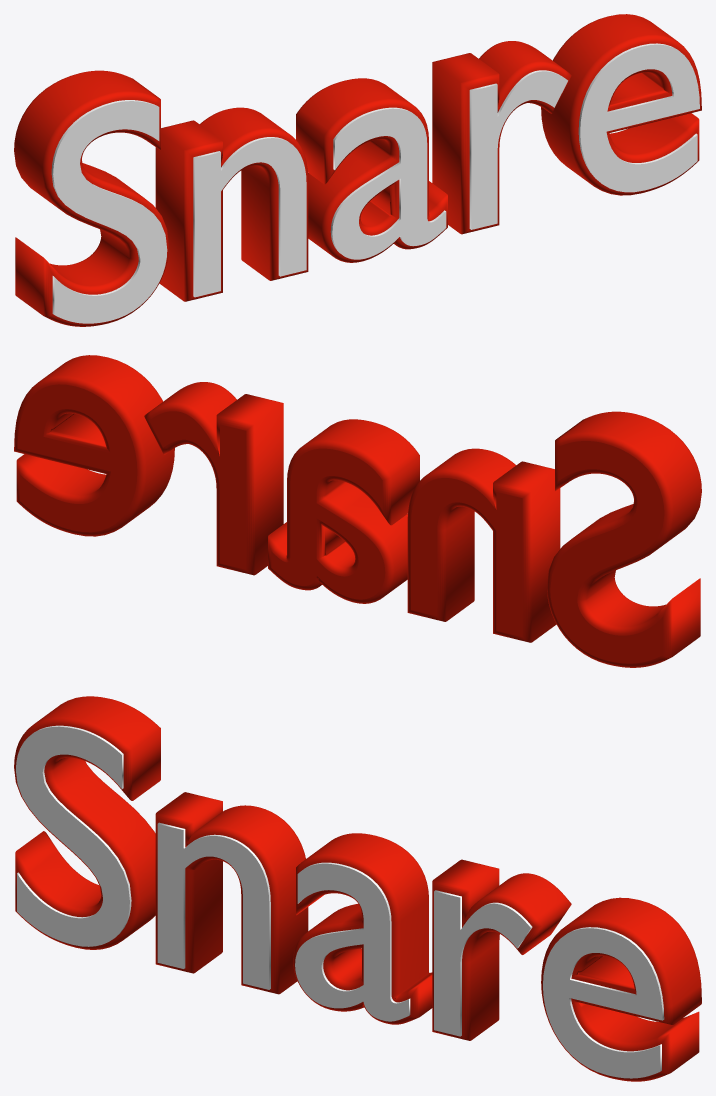
File: snare.fbx
3 renders of one model, top to bottom at view 1: azimuth 30°, elevation 25°; view 2: azimuth 150°, elevation 25°; view 3: azimuth 330°, elevation 25°, orthographic.
Visible parts, largest first — view 1: Text, Text.001; view 2: Text; view 3: Text, Text.001.
Boxes of the visible parts, left/top/right/bottom form: Text: left=14, top=14, right=701, bottom=326; Text.001: left=51, top=43, right=699, bottom=323; Text: left=14, top=355, right=701, bottom=667; Text: left=14, top=696, right=701, bottom=1081; Text.001: left=16, top=725, right=664, bottom=1078.
Size of the model in its own units: 223 by 74 by 20.92.
